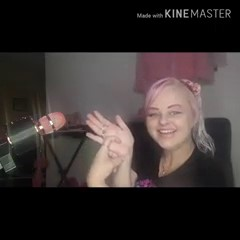R: (80, 107, 136, 180)
